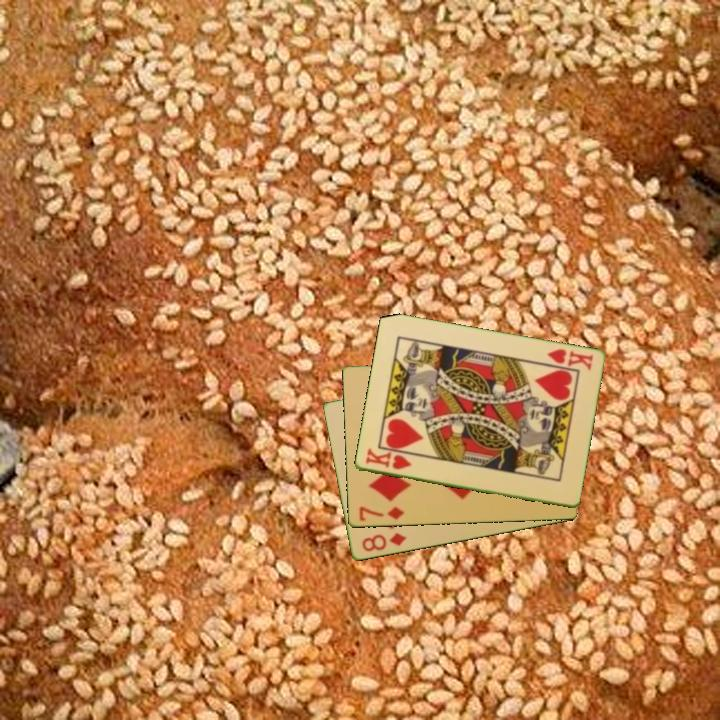7d: (355, 503, 407, 525)
8d: (358, 530, 409, 555)
Kh: (543, 345, 595, 373), (362, 446, 414, 473)
